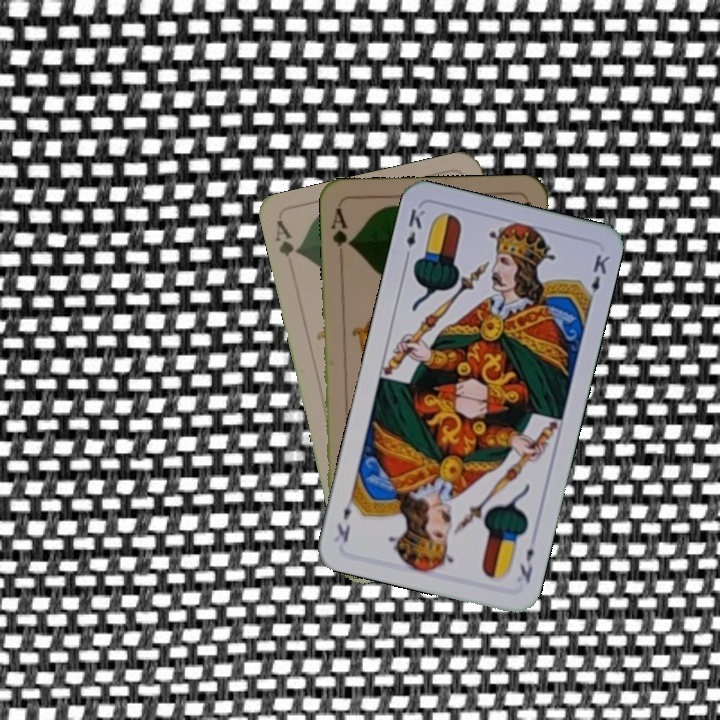EK: (400, 204, 428, 263), (515, 544, 537, 585)
GA: (327, 203, 354, 262), (271, 217, 302, 260)
